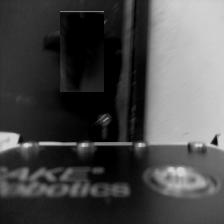Door Handle: (51, 21, 114, 83)
Lock: (88, 108, 120, 142)
